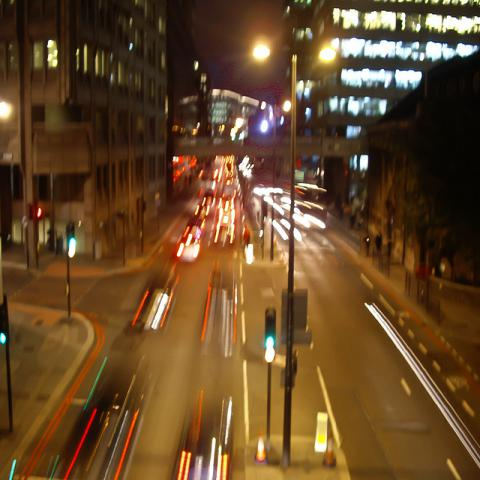car: (177, 224, 201, 263), (217, 219, 231, 248)
